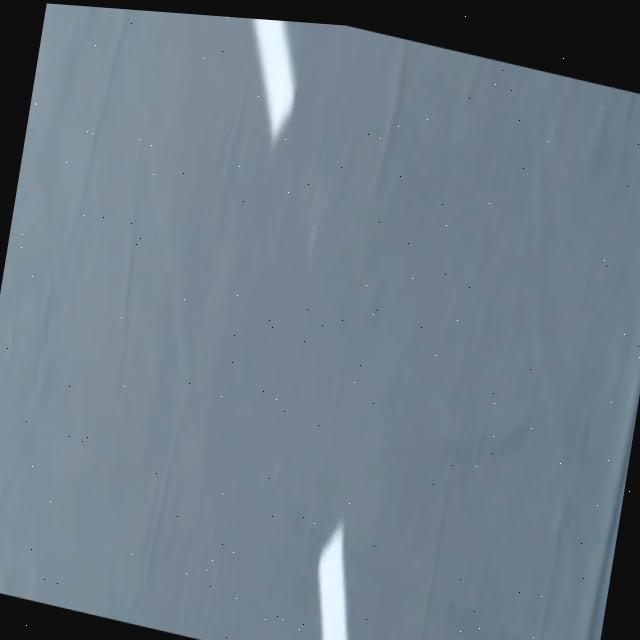center: (251, 19, 295, 145), (317, 524, 347, 640)
